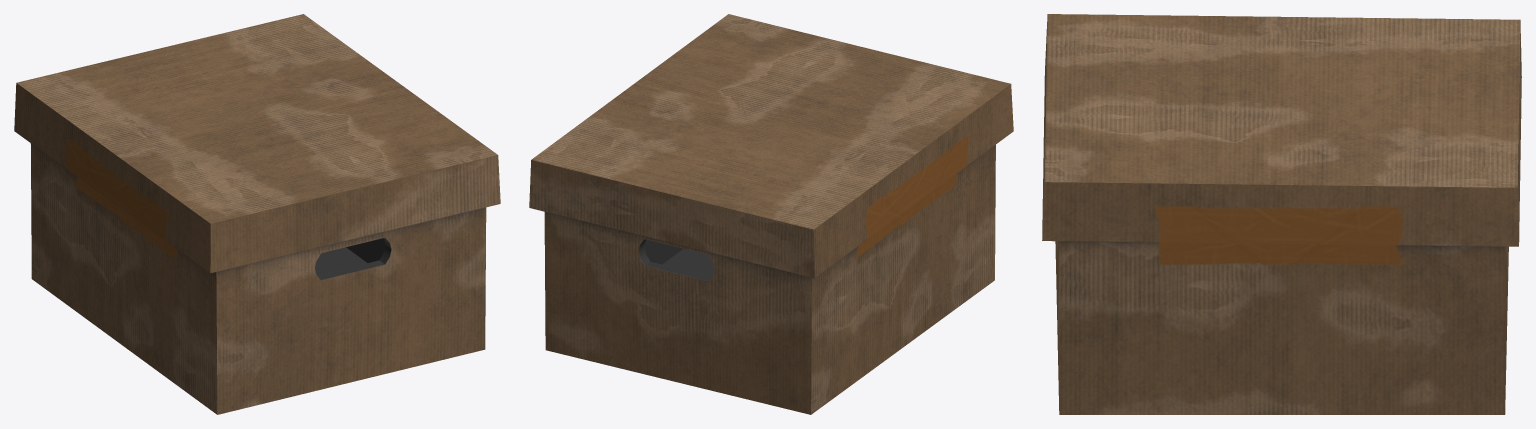
The picture shows the model from 3 angles, left to right: view 1: azimuth 30°, elevation 25°; view 2: azimuth 150°, elevation 25°; view 3: azimuth 270°, elevation 25°; orthographic projection. The views are drawn at different scales.
Visible parts, largest first — view 1: defaultMaterial; view 2: defaultMaterial; view 3: defaultMaterial.
Boxes of the visible parts, x1,y1,x2,y2 form: defaultMaterial: (14, 14, 500, 414); defaultMaterial: (529, 14, 1013, 414); defaultMaterial: (1042, 14, 1521, 414).
Bounding box in the file's own units: 0.5007 × 0.3242 × 0.594.
Materials: 1 (1 with a texture image).
